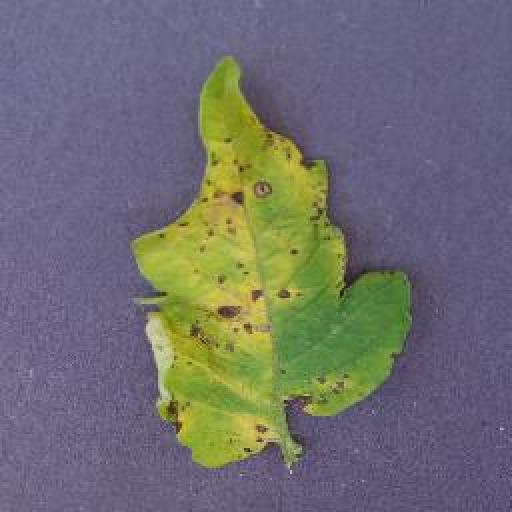Septoria: (133, 50, 416, 474)
